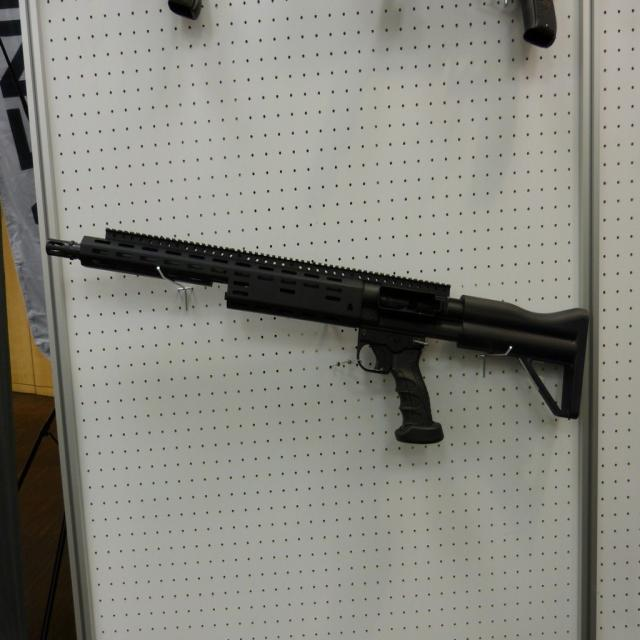firearm: (44, 225, 590, 448), (164, 0, 559, 50)
